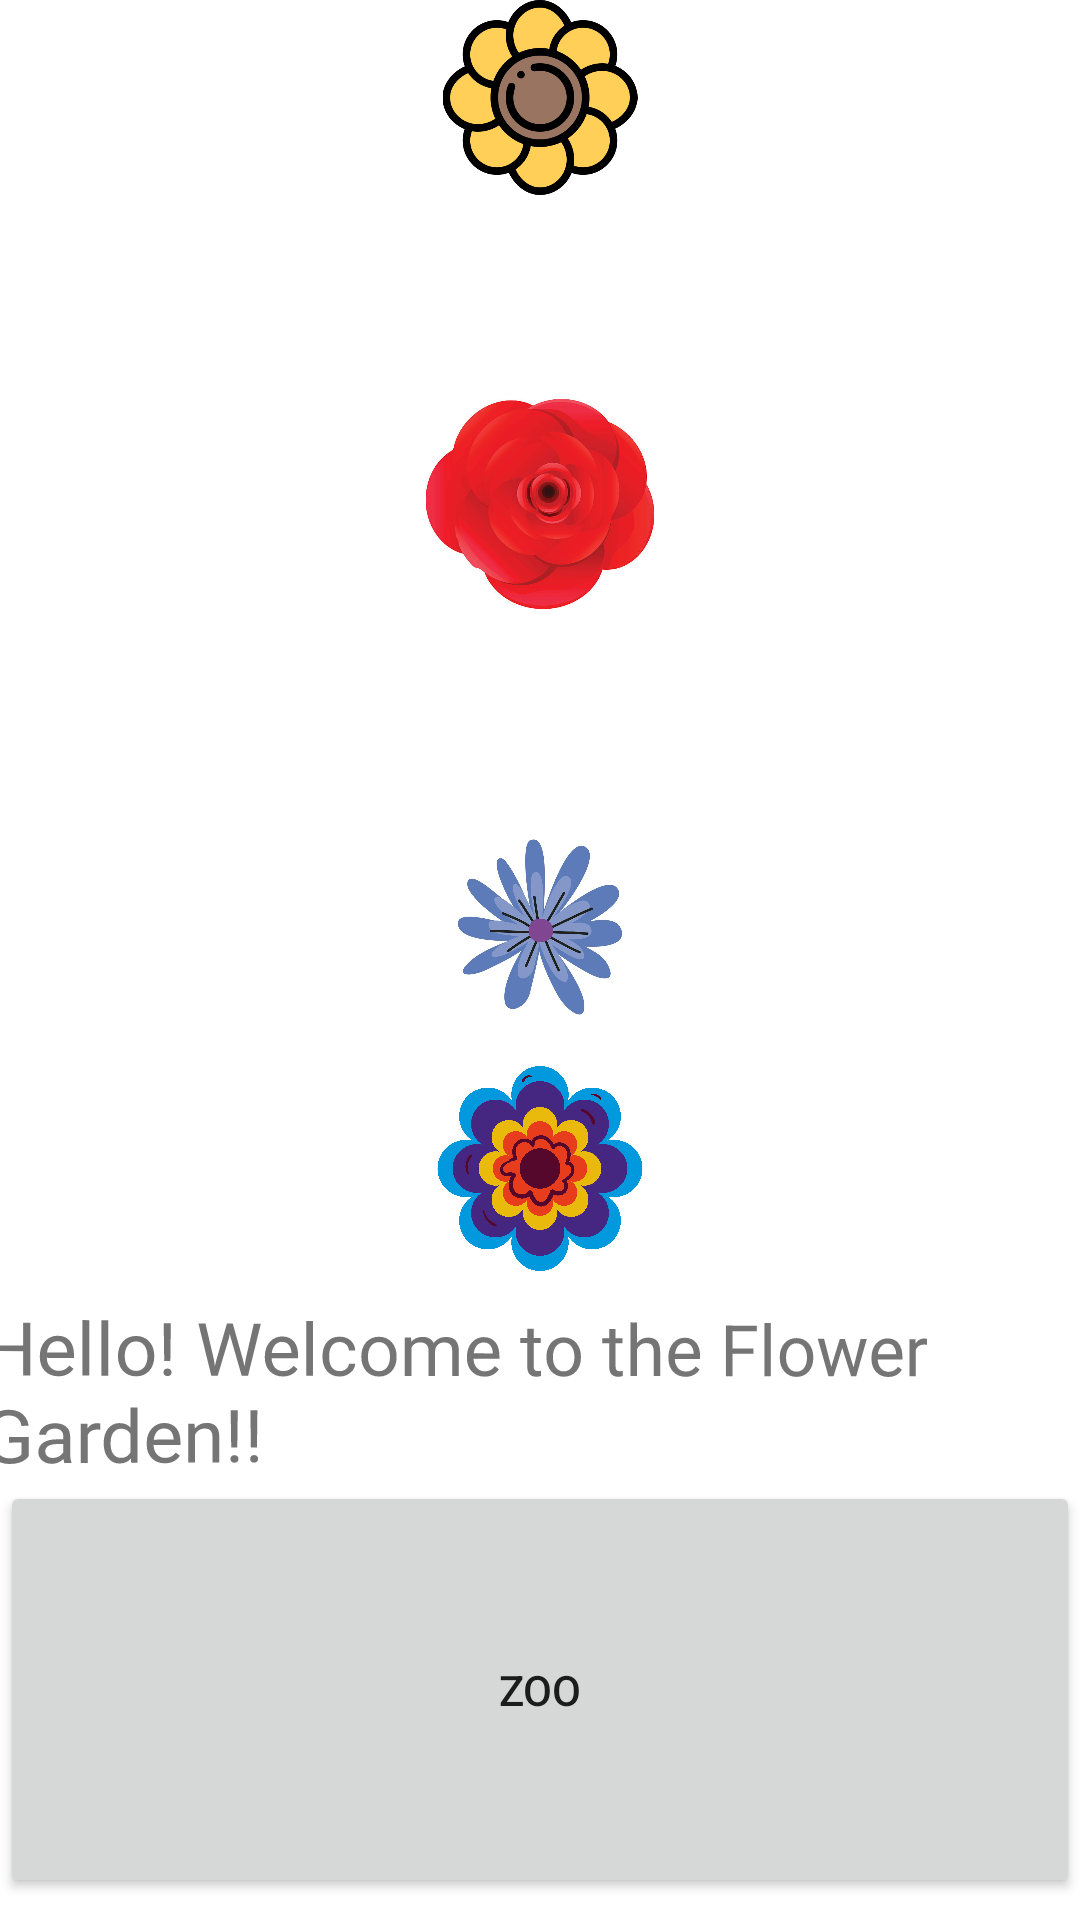

Screen size 1080×1920. Icon name, then its box in pixels as detection(x1, y1, x2, y2):
blueflower: detection(458, 839, 622, 1015)
rosalea: detection(426, 399, 654, 609)
sunflower: detection(443, 0, 638, 195)
